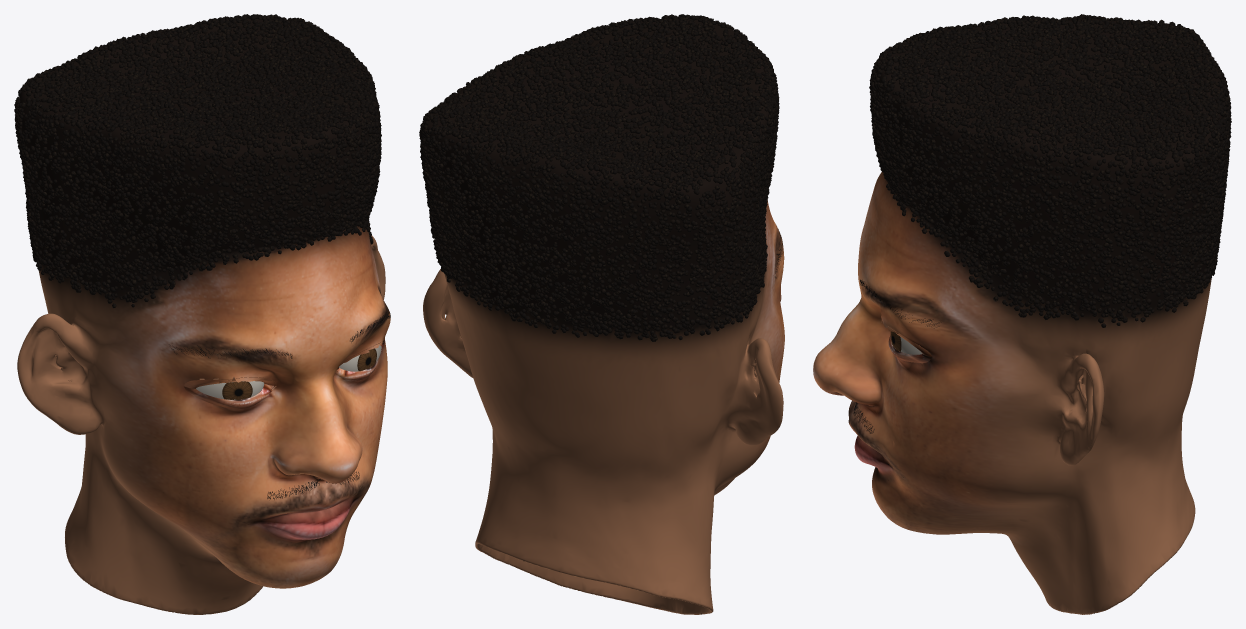
The model's file is will-head-detailed.glb.
3 views of the same model, side by side, from view 1: azimuth 30°, elevation 25°; view 2: azimuth 150°, elevation 25°; view 3: azimuth 270°, elevation 25° (orthographic). The views are drawn at different scales.
Visible parts, largest first — view 1: Will_HeadSkin, Will_TexturedCurlClusters, Will_CurlLoops, Will_FineFacialHair, Will_LowerLid_-1, Will_Iris_-1; view 2: Will_HeadSkin, Will_TexturedCurlClusters, Will_CurlLoops; view 3: Will_HeadSkin, Will_TexturedCurlClusters, Will_CurlLoops.
Part boxes in pixels (x1,y1,x2,y2): Will_HeadSkin: (17,18,390,614); Will_TexturedCurlClusters: (14,14,381,307); Will_CurlLoops: (15,14,380,301); Will_FineFacialHair: (169,309,390,499); Will_LowerLid_-1: (184,384,276,409); Will_Iris_-1: (222,381,252,399); Will_HeadSkin: (423,17,784,614); Will_TexturedCurlClusters: (419,14,779,341); Will_CurlLoops: (423,15,778,331); Will_HeadSkin: (813,18,1224,614); Will_TexturedCurlClusters: (869,14,1231,327); Will_CurlLoops: (871,17,1231,301).
Bounding box in the file's own units: 0.2419 × 0.3389 × 0.2392.
7 materials, 2 textured.
